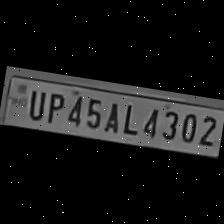0: (176, 108, 198, 142)
2: (194, 110, 219, 146)
3: (158, 105, 180, 141)
4: (136, 102, 162, 138), (62, 90, 84, 126)
5: (80, 92, 104, 130)
A: (101, 96, 125, 134)
L: (116, 97, 140, 136)
P: (42, 88, 65, 124)
U: (22, 84, 46, 122)
